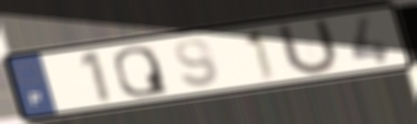1: (77, 48, 114, 104), (243, 24, 277, 83)
4: (349, 13, 394, 66)
9: (170, 38, 223, 90)
Q: (111, 45, 172, 99)
U: (273, 17, 342, 78)
